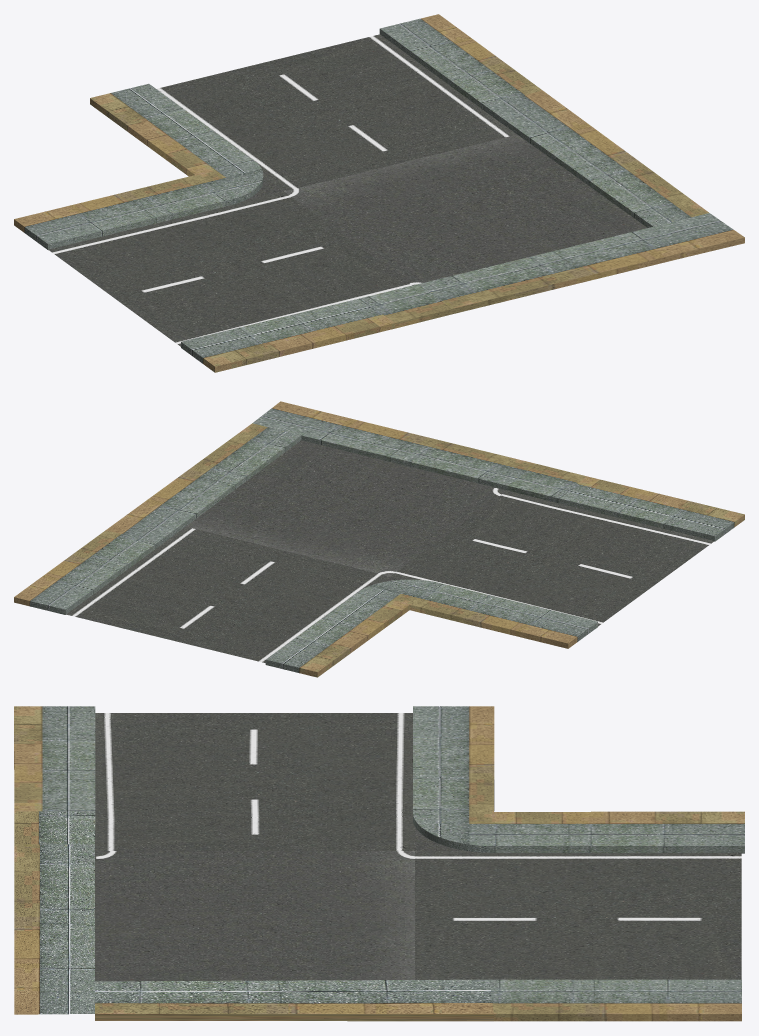
Rendered from road C.FBX.
3 renders of one model, top to bottom at view 1: azimuth 30°, elevation 25°; view 2: azimuth 150°, elevation 25°; view 3: azimuth 270°, elevation 25°, orthographic. The views are drawn at different scales.
Parts seen in each view (by area): view 1: Box002; view 2: Box002; view 3: Box002.
Part boxes in pixels (x1,y1,x2,y2): Box002: (14, 14, 744, 372); Box002: (14, 401, 744, 677); Box002: (14, 706, 744, 1021).
Size of the model in its own units: 224 by 2.5 by 225.
